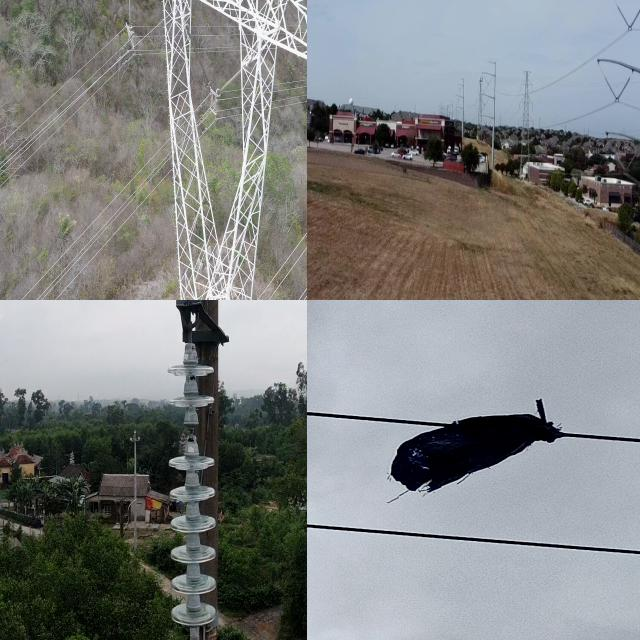杆塔: (106, 0, 307, 300), (510, 62, 538, 182), (475, 74, 485, 142)
植被遮挡: (365, 396, 590, 503)
正常绝缘子: (164, 347, 224, 633), (120, 0, 138, 51), (614, 76, 632, 104), (604, 75, 621, 104), (617, 4, 633, 31), (628, 8, 640, 32)
绝缘子破损: (182, 417, 200, 448)
